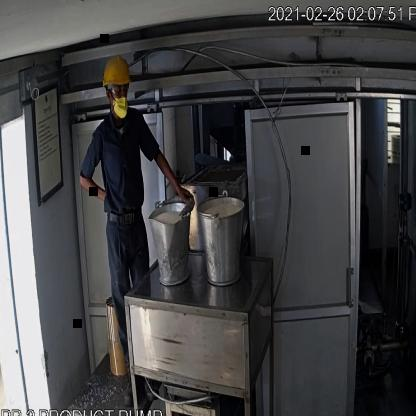helmet: (92, 51, 140, 90)
